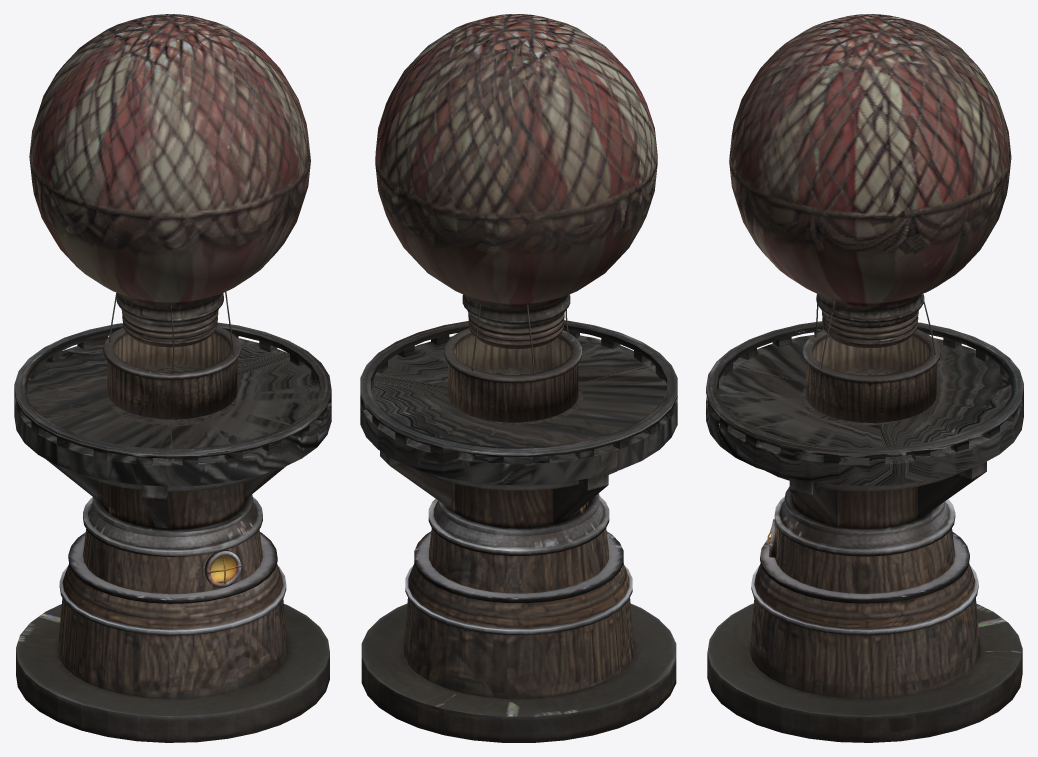
The model's file is Bloon tower Lv1.fbx.
The picture shows the model from 3 angles, left to right: view 1: azimuth 30°, elevation 25°; view 2: azimuth 150°, elevation 25°; view 3: azimuth 270°, elevation 25°; orthographic projection.
Parts seen in each view (by area): view 1: Bloon tower Lv1; view 2: Bloon tower Lv1; view 3: Bloon tower Lv1.
Boxes of the visible parts, bbox=[...] form: Bloon tower Lv1: bbox=[14, 14, 331, 742]; Bloon tower Lv1: bbox=[360, 14, 677, 742]; Bloon tower Lv1: bbox=[706, 14, 1023, 742].
Size of the model in its own units: 6.19 by 13.95 by 6.19.
Materials: 8 (8 with a texture image).
